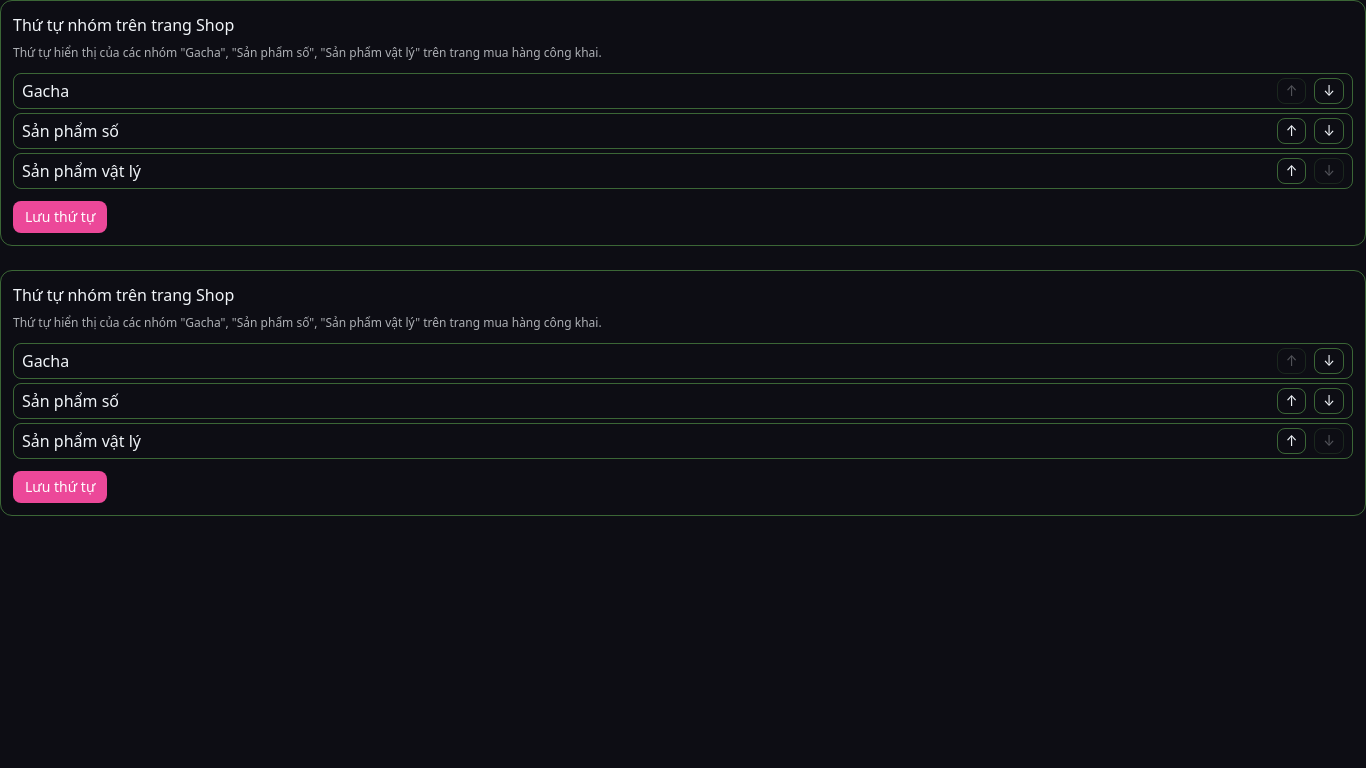
Test: AdminShopGroupOrder › moves a group down and saves the new order
The image size is (1366, 768).
What coordinates should you click on to do the following:
click the 4th button "↓"
I would click on:
 (1329, 361)
Its box is x1=1314 y1=348 x2=1344 y2=374.
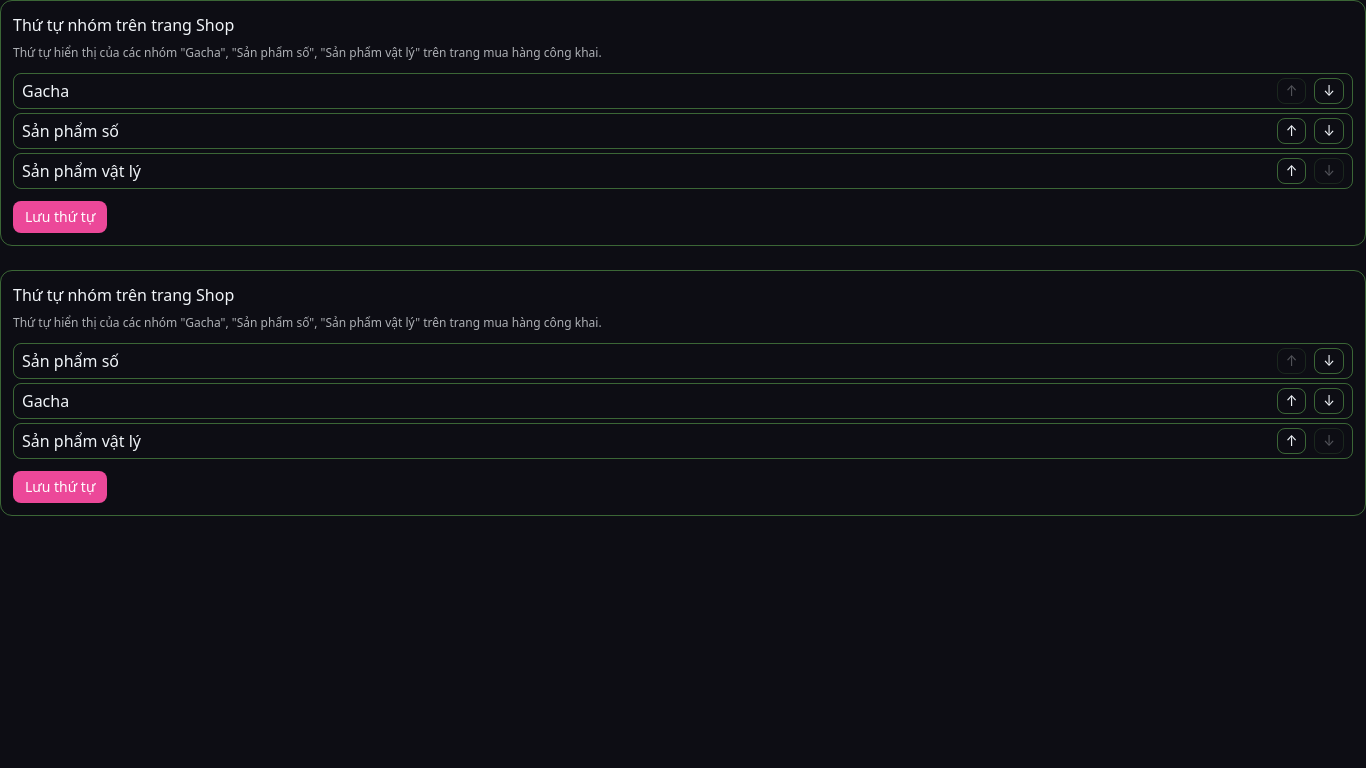
What coordinates should you click on to do the following:
click the 2nd button "Lưu thứ tự"
I would click on:
 (60, 487)
Its box is x1=13 y1=471 x2=107 y2=503.
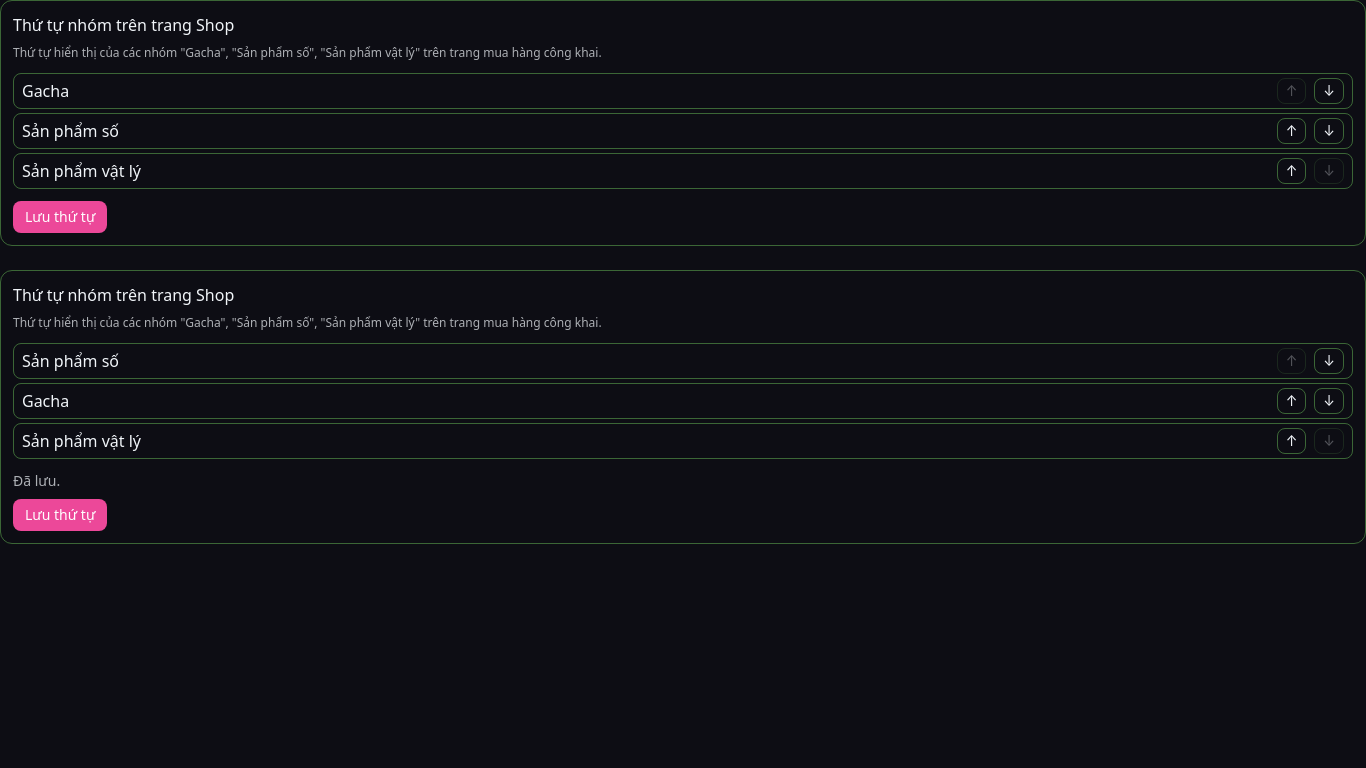
expect the text "Đã lưu." is shown: met, box x1=13 y1=471 x2=60 y2=490
